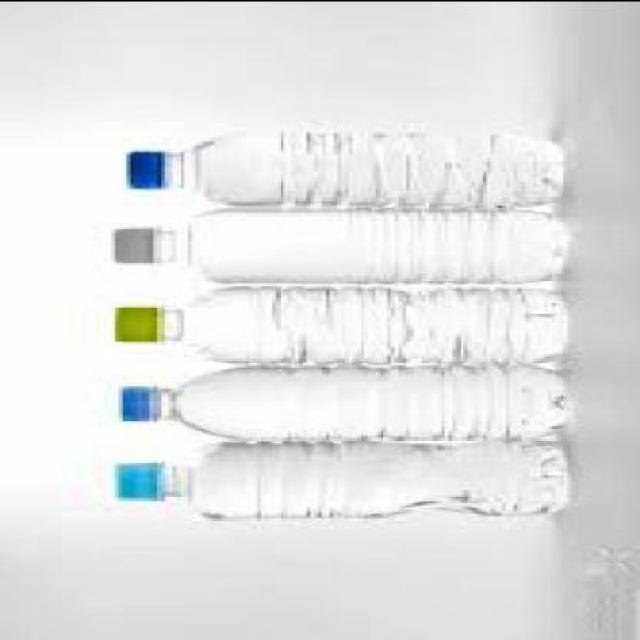PLASTIC: (114, 360, 564, 440), (111, 434, 567, 512), (111, 281, 567, 359), (122, 125, 560, 204), (111, 206, 567, 280), (111, 455, 160, 496), (122, 148, 166, 186), (111, 302, 157, 338), (111, 223, 154, 260), (115, 383, 153, 417)
